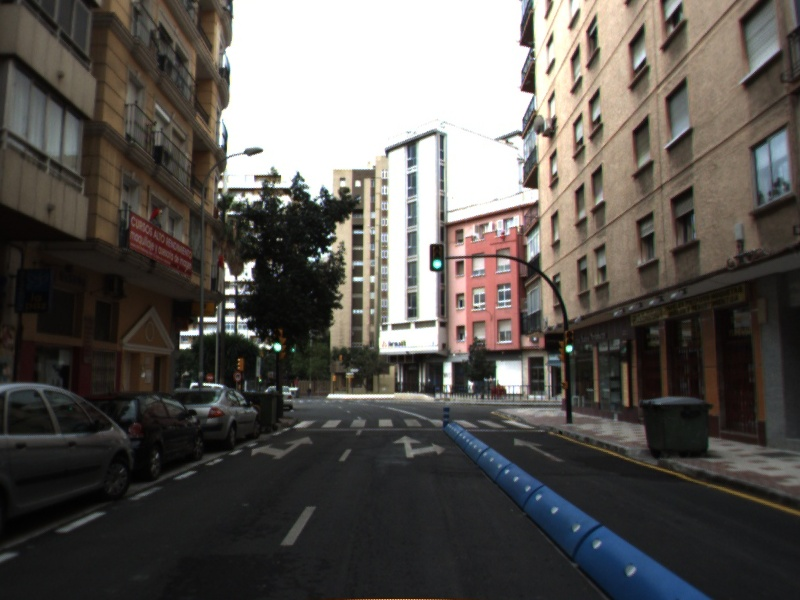STRAIGHT: (512, 436, 567, 463)
STRAIGHT_LEFT: (249, 434, 316, 461)
STRAIGHT_RIGHT: (390, 433, 448, 460)
